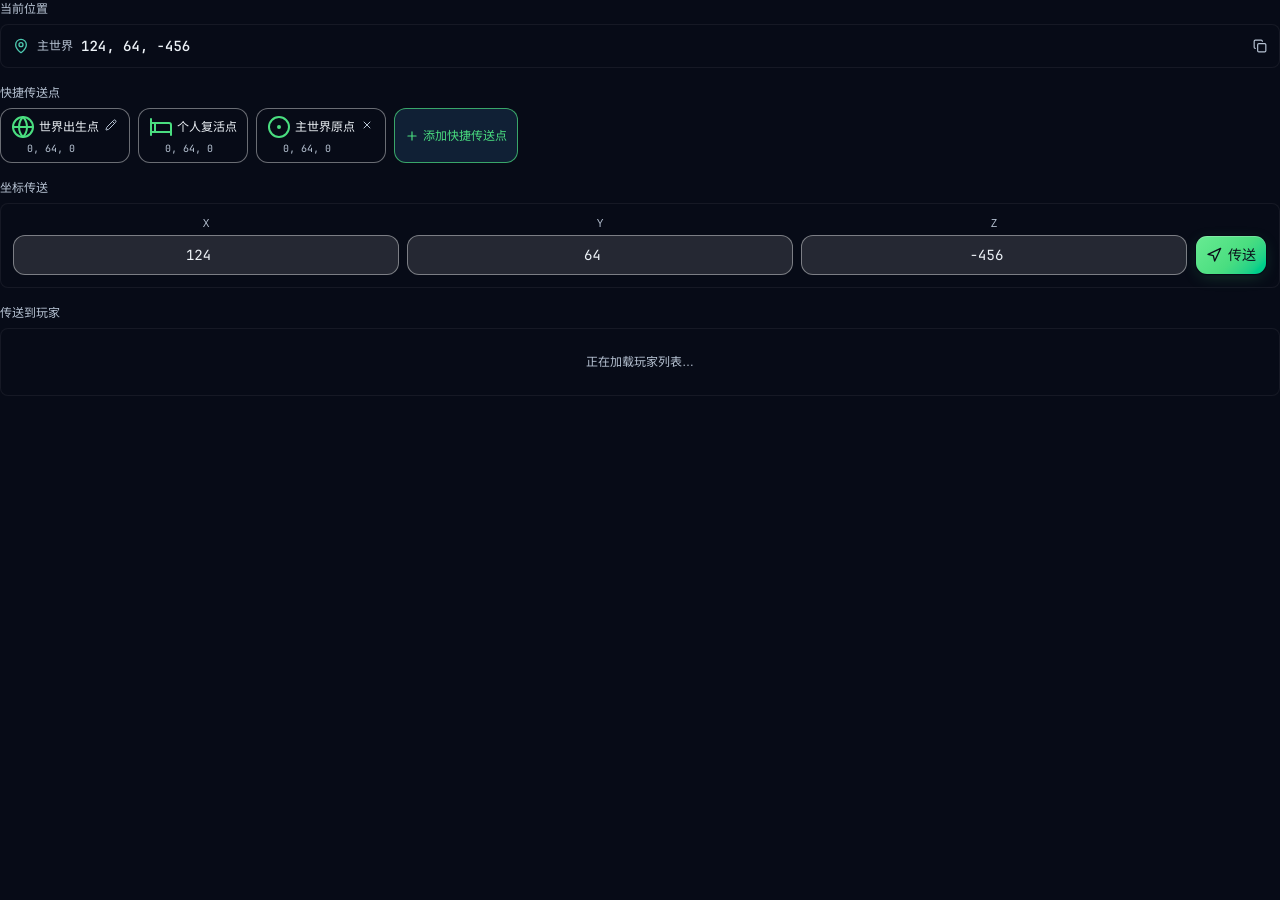
Test: TeleportTab › 偏好尚未拉回时保存快捷点：提示失败且服务端不变
Click the button "添加快捷传送点".
click(456, 136)  # box [394, 108, 518, 163]
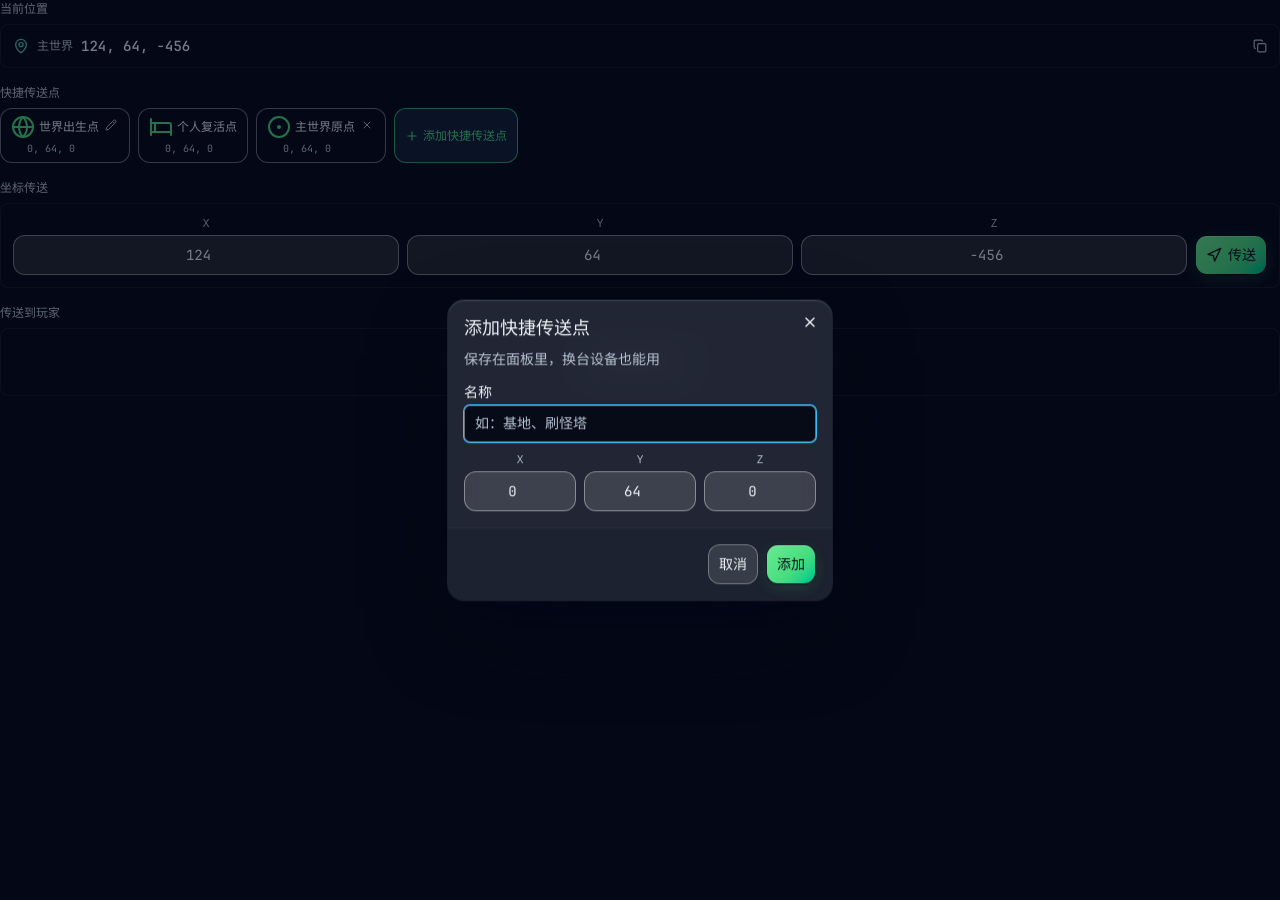
Type "基地" into the field labelled "名称".
click(640, 424); type("基地")  # box [464, 405, 816, 442]
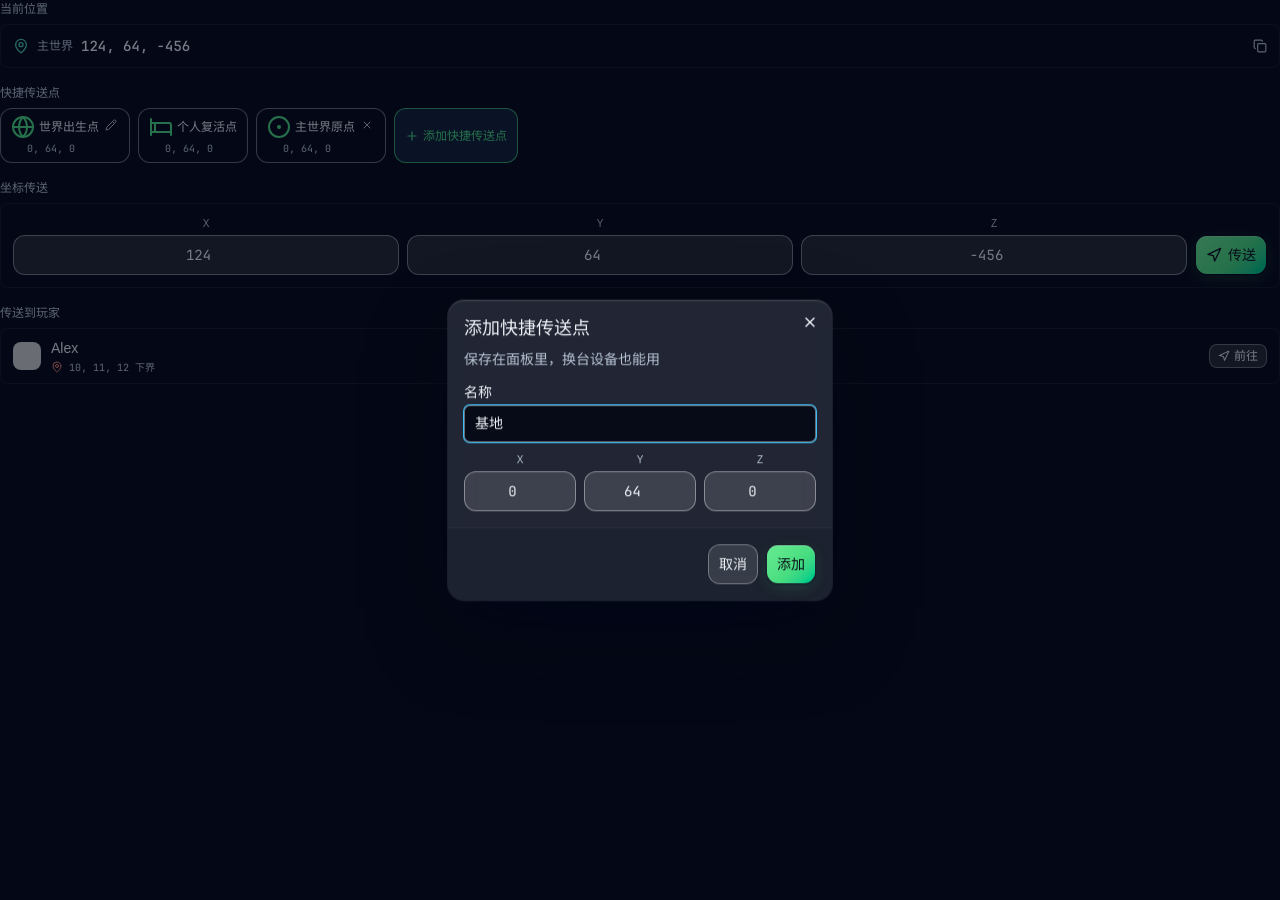
Click the button "添加".
click(791, 564)  # box [766, 544, 816, 584]
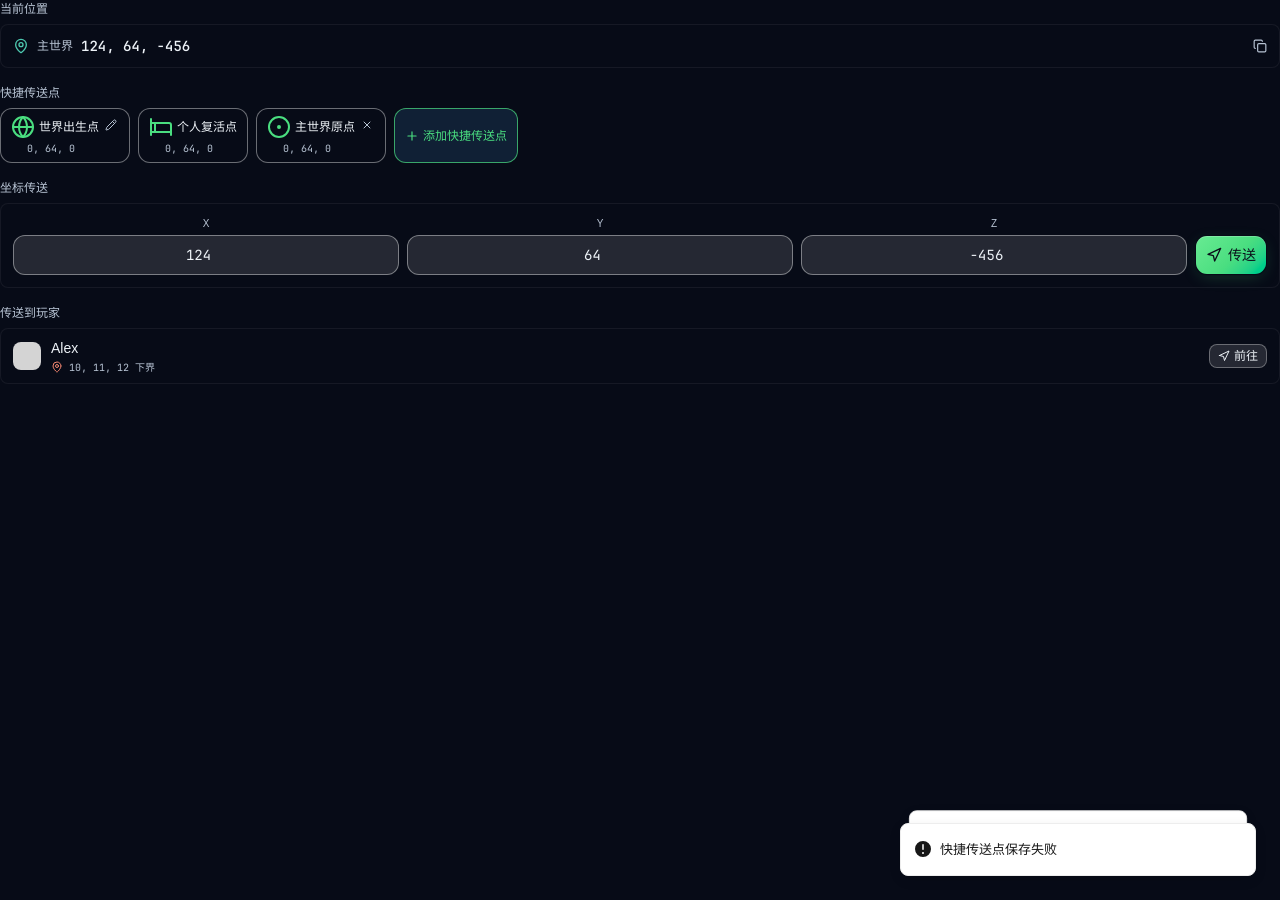
Check: the text "基地" is not shown
Check: the text "快捷传送点保存失败" is shown, box [940, 840, 1057, 859]
